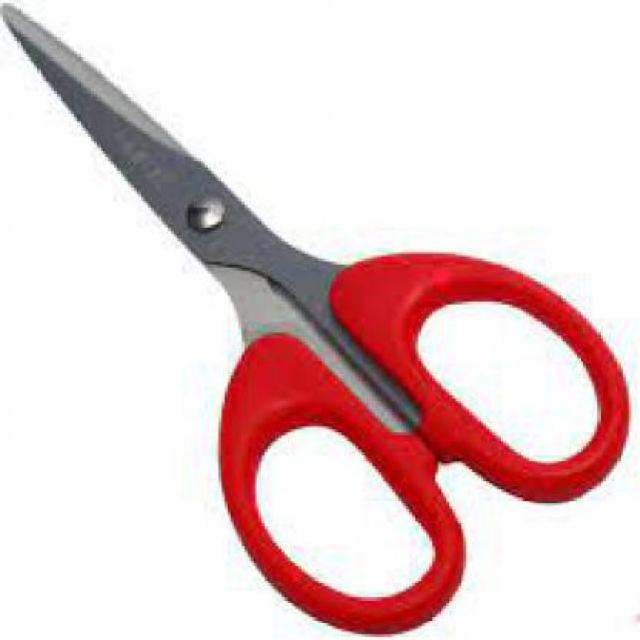scissors: (0, 0, 638, 635)
